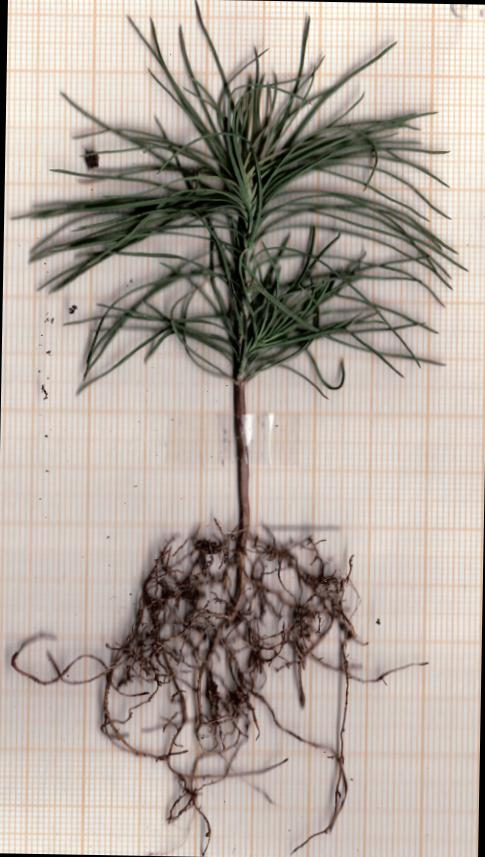flower: (6, 0, 474, 403)
root: (98, 517, 373, 857)
stem: (228, 386, 258, 522)
